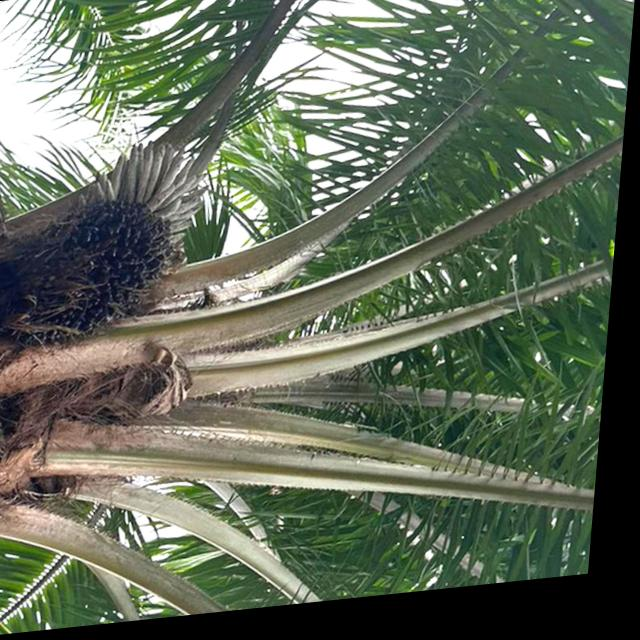unripe: (0, 199, 176, 356)
